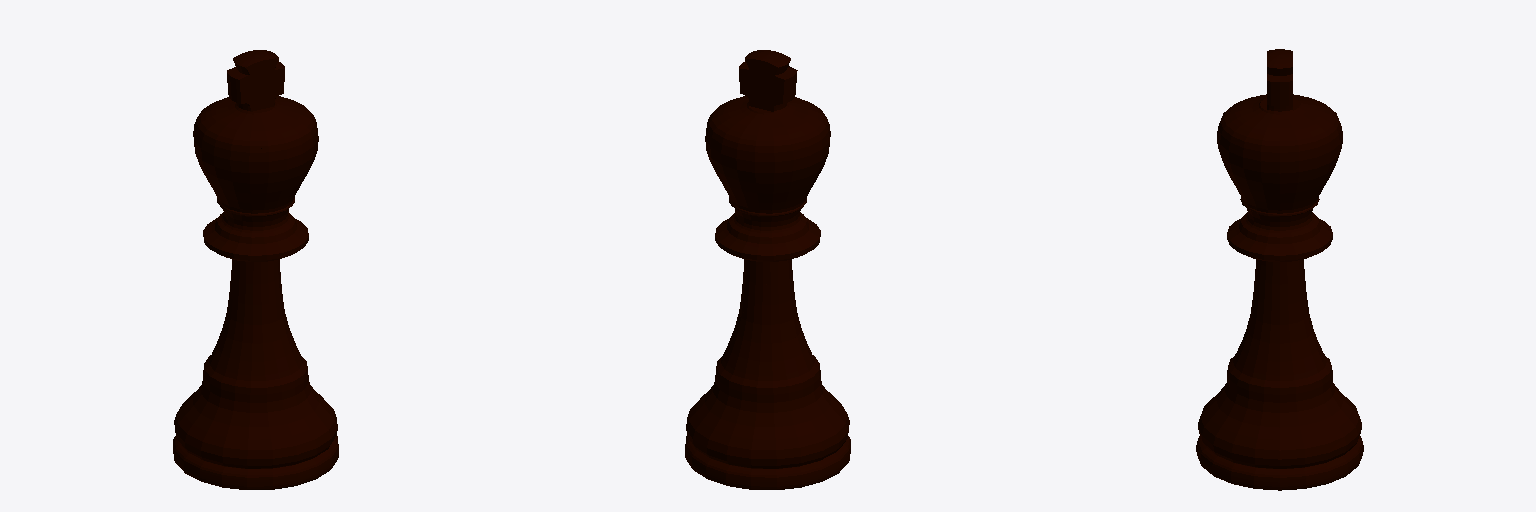
The model's file is king_2.obj.
The picture shows the model from 3 angles: view 1: azimuth 30°, elevation 25°; view 2: azimuth 150°, elevation 25°; view 3: azimuth 270°, elevation 25°; orthographic projection.
Visible parts, largest first — view 1: RE01; view 2: RE01; view 3: RE01.
Boxes of the visible parts, <box> form: RE01: <box>173,50,338,489</box>; RE01: <box>685,50,850,489</box>; RE01: <box>1196,49,1363,490</box>.
Size of the model in its own units: 93.03 by 247 by 93.03.